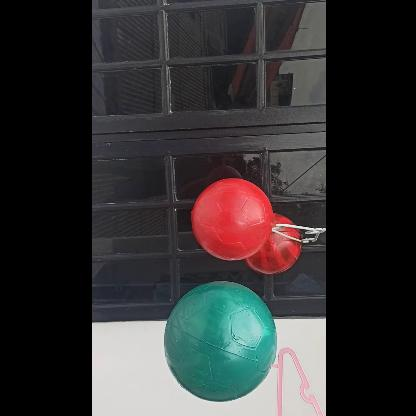red_ball: (192, 178, 272, 258)
